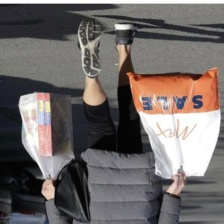plastic_bag: (118, 63, 224, 187), (13, 89, 77, 184)
